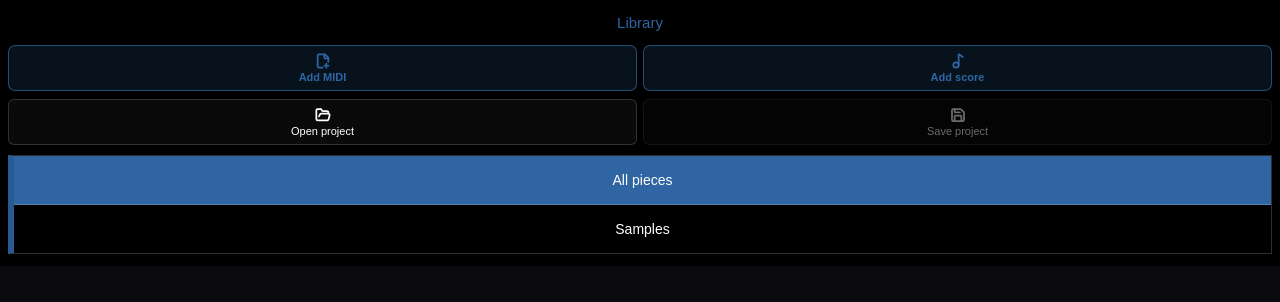
PieceFilesColumn › opens editable projects and remembers them in the library
Step 1. Click the button "Open project" → (322, 122), box top-left (8, 99), bottom-right (637, 145)
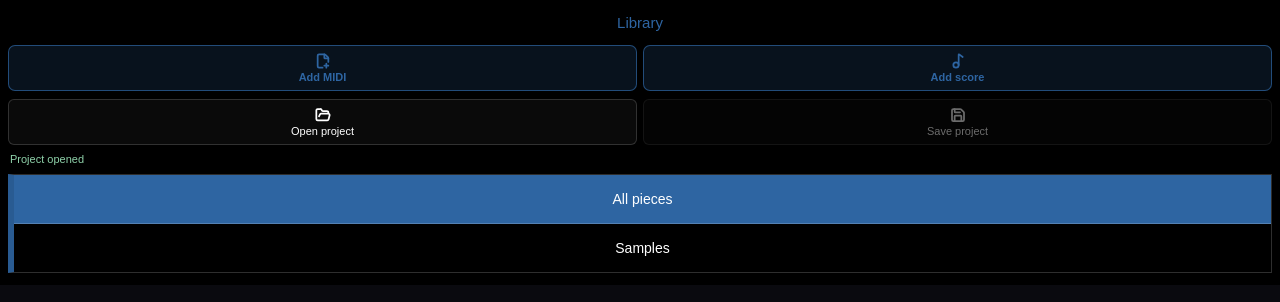
expect the message reads "Project opened": met, box top-left (10, 153), bottom-right (84, 165)
